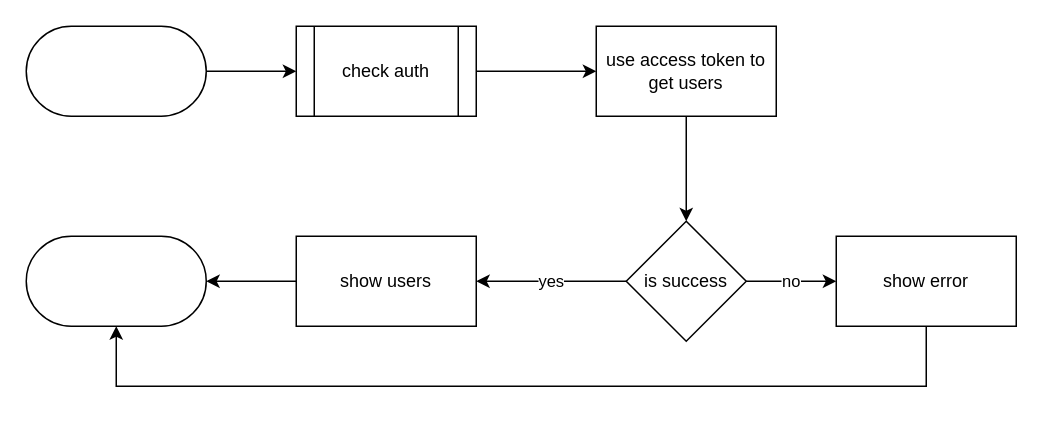
Image size: 1043x425. Some labels were removed from this diagram. Each missing label, with the box of its shape:
end: (25, 235, 206, 326)
start: (25, 25, 206, 116)
